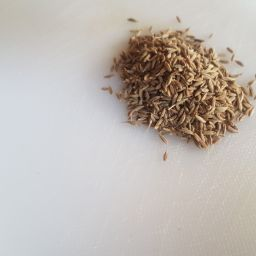Cumin (zeera): (116, 12, 256, 139), (121, 17, 256, 143), (106, 54, 256, 160)
